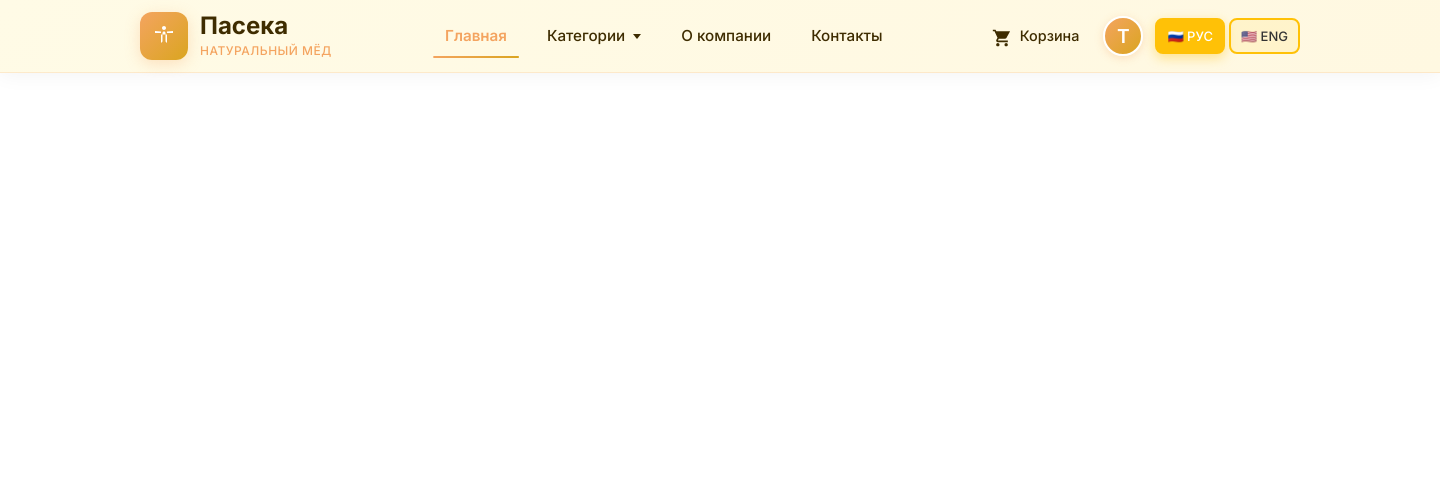
Scenario: Header Component › отображает профиль для авторизованного пользователя
This screenshot has width=1440, height=485.
Expected: the text with test id "user-avatar" reads "T", [1117,24,1130,48]
Note: Проверяем наличие выпадающего меню профиля
Hover over the element with test id "user-avatar" at x=1123, y=36, box [1103,16,1143,56]
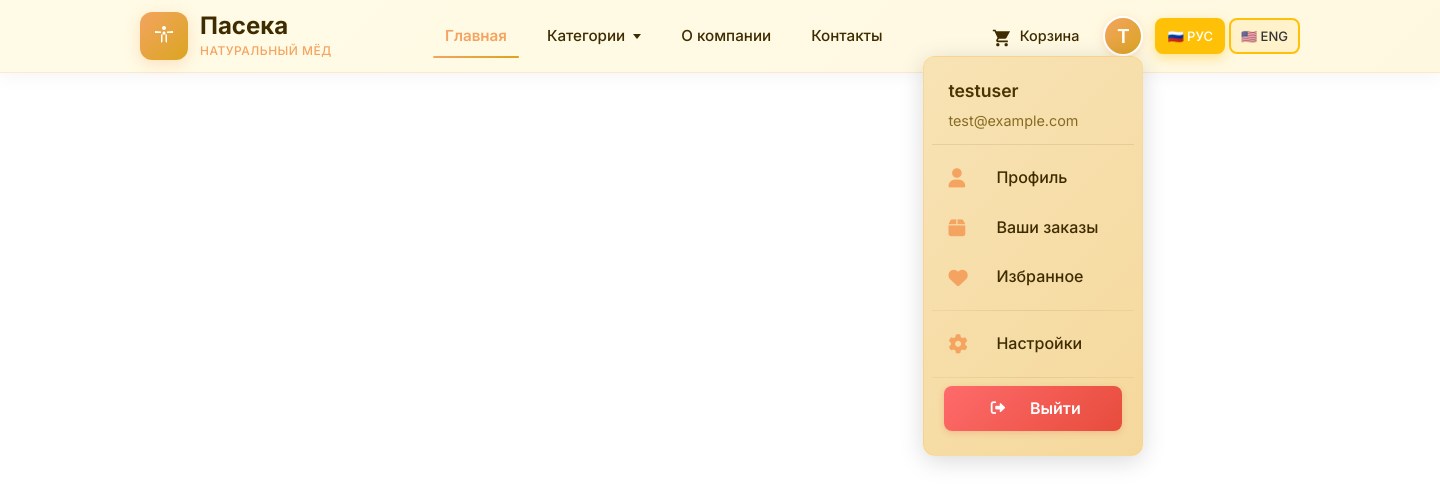
Result: the text "testuser" is shown at [948,80,1019,101]
Result: the text "Ваши заказы" is shown at [996,215,1098,240]
Result: the text "Выйти" is shown at [1030,396,1081,421]
